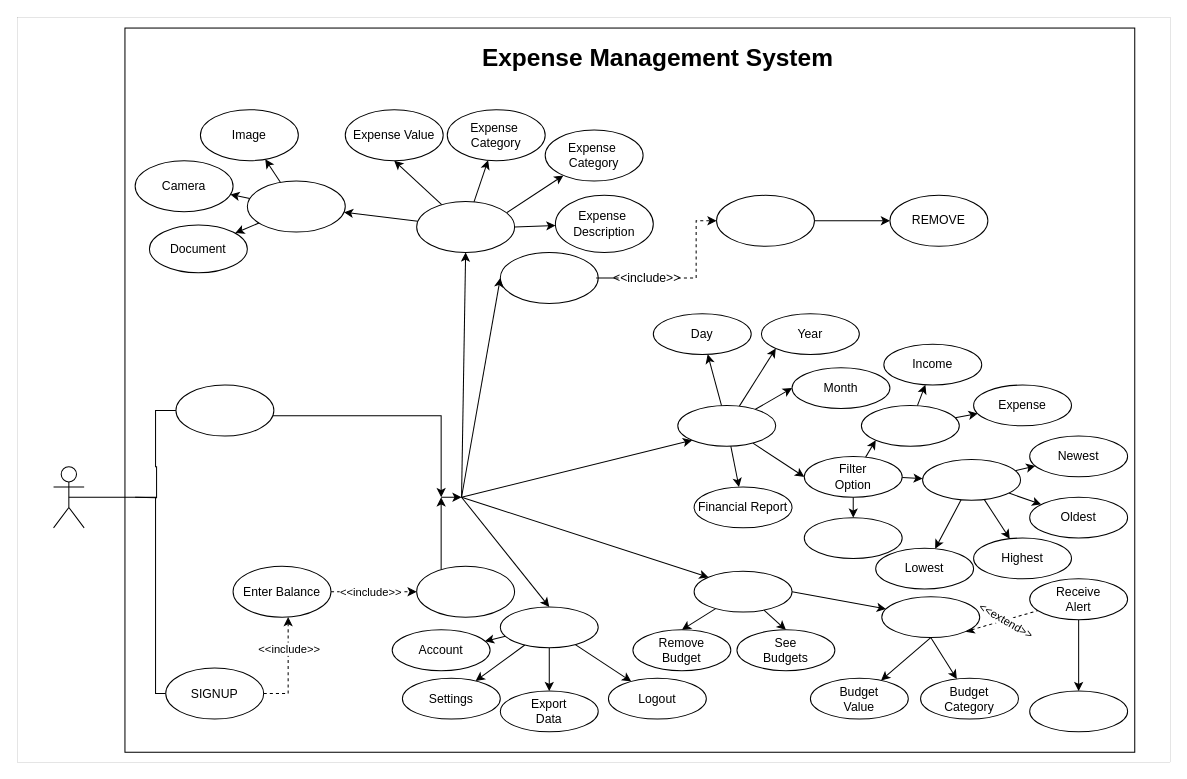
Image size: 1187x779. Some labels were removed from this diagram. The centre of each missing label's shape, as x and y in pixels:
ADD EXPENSE: the point at 465,226
Alert Point: the point at 1078,711
Budget: the point at 742,591
Category: the point at 852,537
Create Budget: the point at 930,617
Enter UserName: the point at 465,591
EXPENSE Attachments: the point at 295,206
Filter By: the point at 909,425
LOGIN: the point at 224,410
Profile: the point at 548,627
REMOVE EXPENSE: the point at 548,277
SELECT EXPENSE: the point at 765,220
Sort By: the point at 971,479
TRANSACTION: the point at 726,425
USER: the point at 68,497
